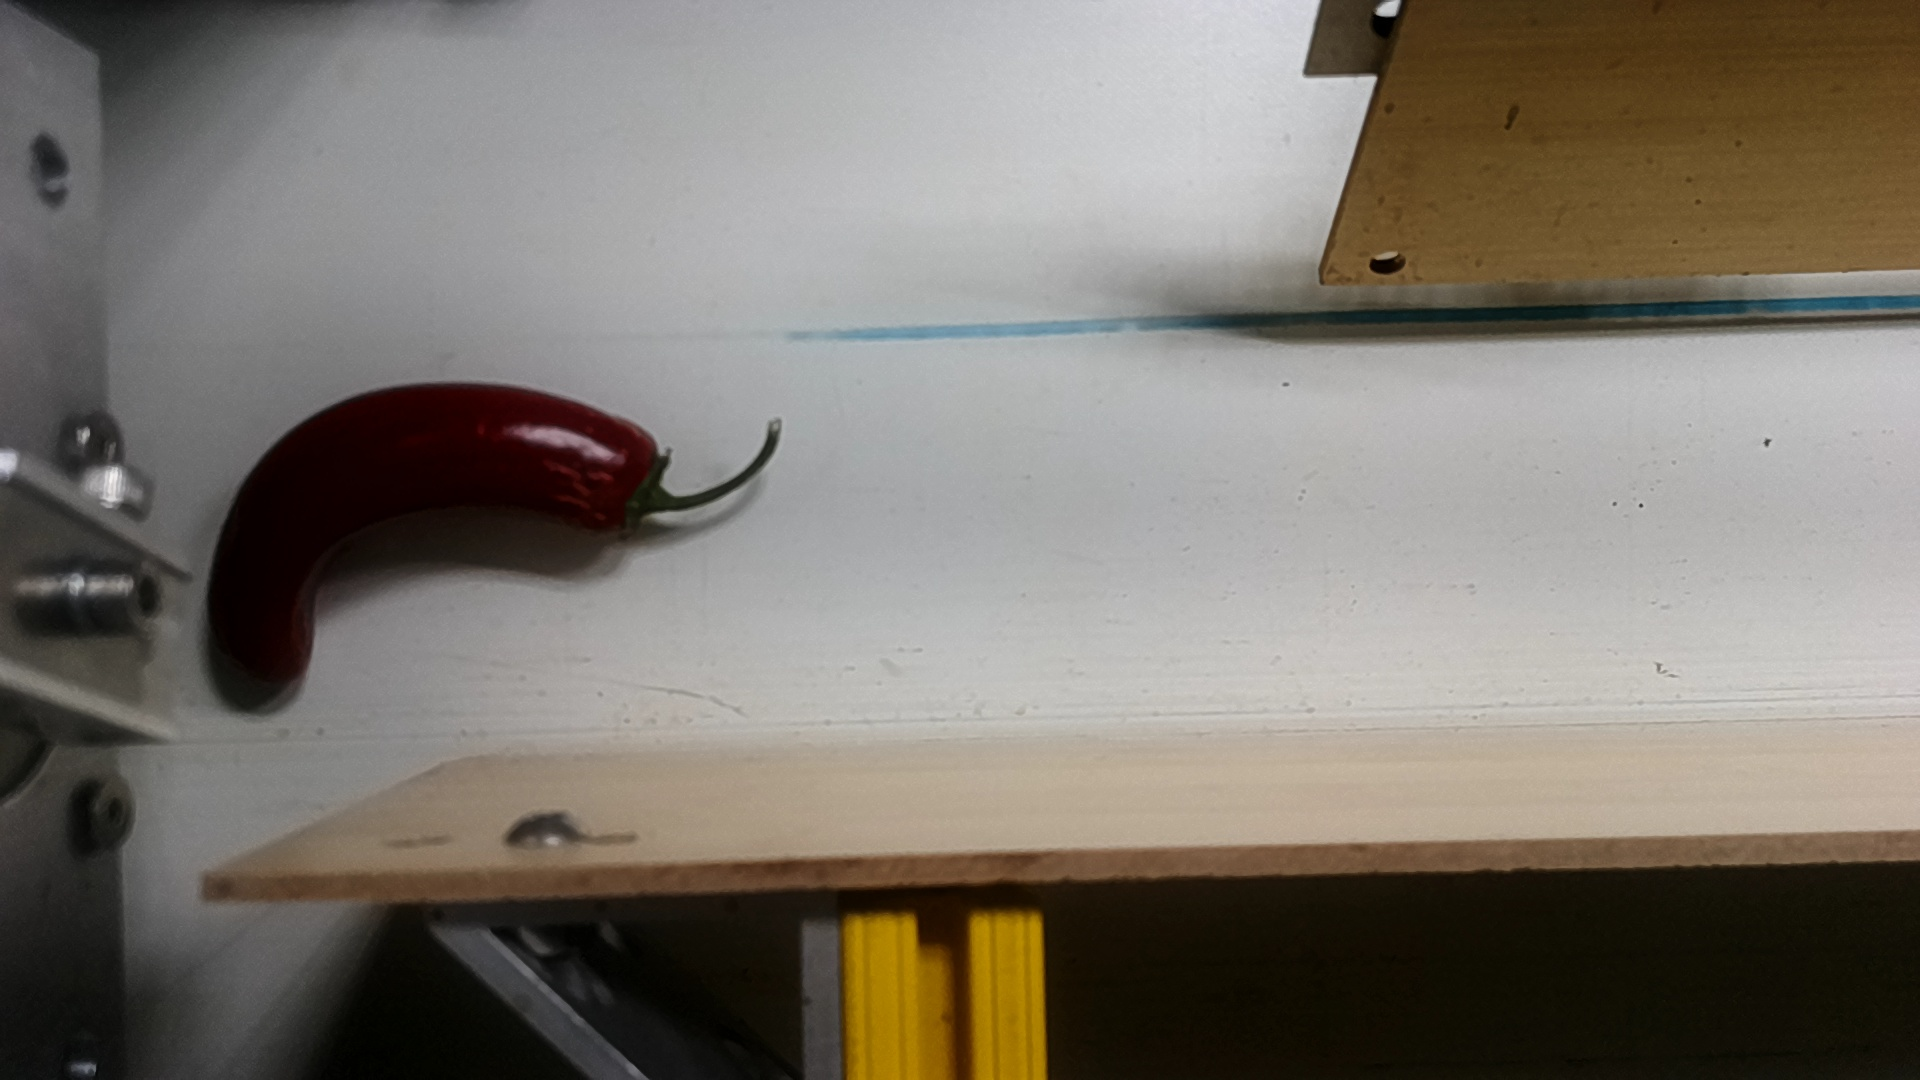Cut Point: (560, 397, 716, 564)
